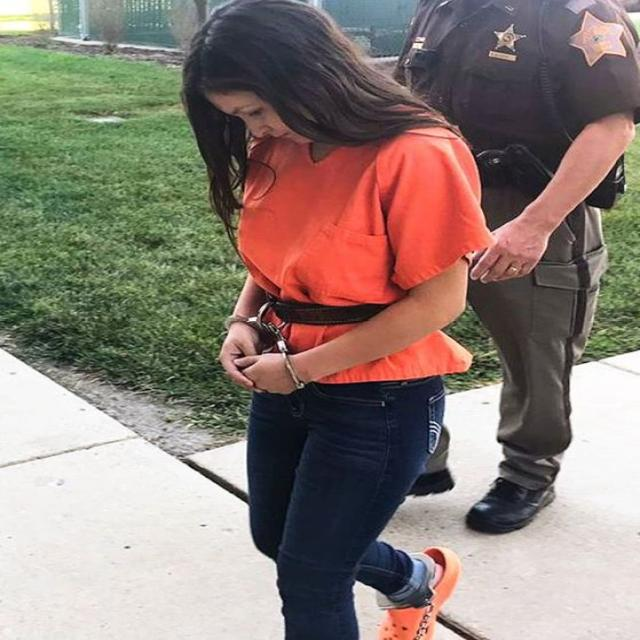9_cabeza_baja: (182, 0, 418, 150)
